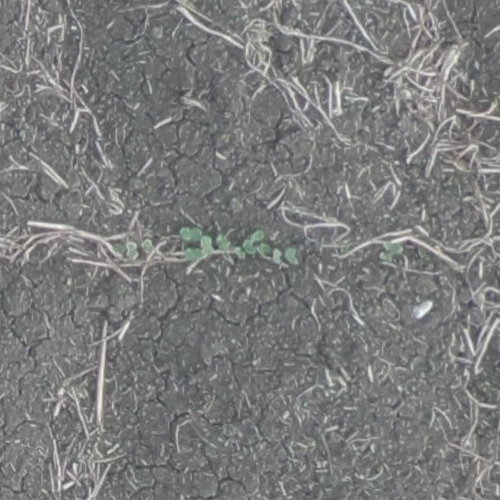clumped: (180, 227, 229, 261)
isolated: (244, 231, 271, 257), (271, 245, 298, 268)
